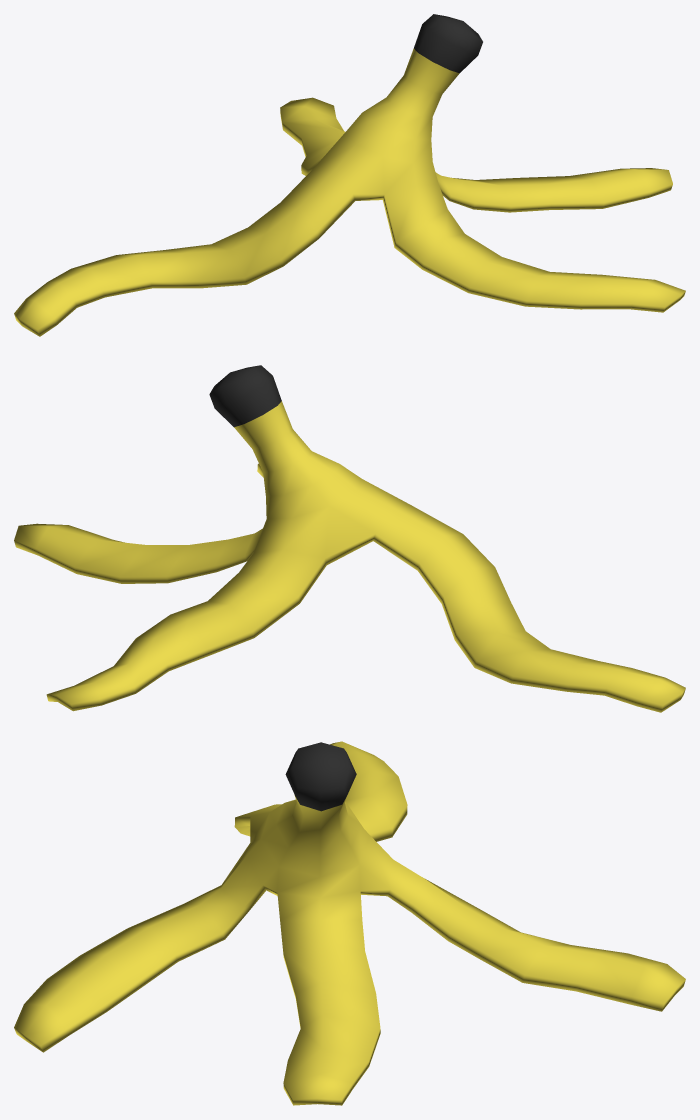
Rendered from BananaPeel (3).fbx.
The picture shows the model from 3 angles, top to bottom: view 1: azimuth 30°, elevation 25°; view 2: azimuth 150°, elevation 25°; view 3: azimuth 270°, elevation 25°; orthographic projection. The views are drawn at different scales.
Parts seen in each view (by area): view 1: BananaPeel; view 2: BananaPeel; view 3: BananaPeel.
Boxes of the visible parts, x1,y1,x2,y2 form: BananaPeel: (14, 14, 685, 336); BananaPeel: (14, 365, 685, 712); BananaPeel: (14, 741, 685, 1105).
Bounding box in the file's own units: 50.44 × 16.35 × 40.62.
